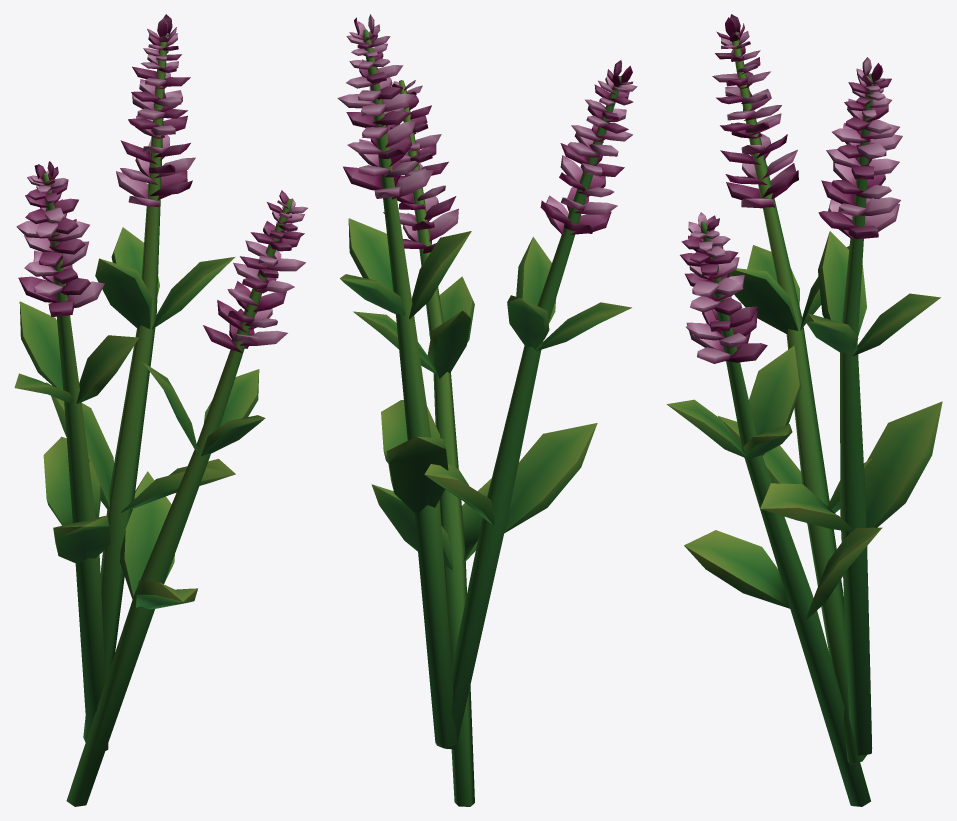
File: SM_SweetBasil_A.fbx
3 renders of one model, left to right at view 1: azimuth 30°, elevation 25°; view 2: azimuth 150°, elevation 25°; view 3: azimuth 270°, elevation 25°, orthographic. The views are drawn at different scales.
Parts seen in each view (by area): view 1: SM_SweetBasil_A; view 2: SM_SweetBasil_A; view 3: SM_SweetBasil_A.
Part boxes in pixels (x1,y1,x2,y2): SM_SweetBasil_A: (14, 14, 307, 806); SM_SweetBasil_A: (337, 14, 637, 806); SM_SweetBasil_A: (666, 14, 942, 806).
Bounding box in the file's own units: 22.49 × 60.99 × 19.27.
